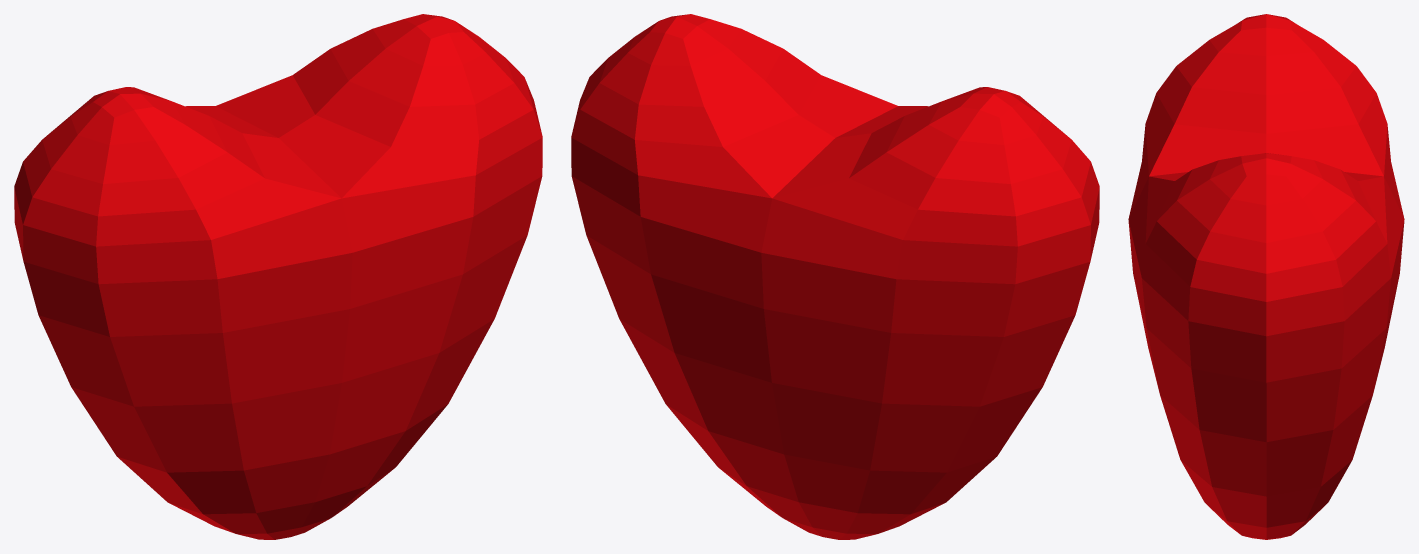
The model's file is Heart3D.fbx.
3 renders of one model, left to right at view 1: azimuth 30°, elevation 25°; view 2: azimuth 150°, elevation 25°; view 3: azimuth 270°, elevation 25°, orthographic. The views are drawn at different scales.
Parts seen in each view (by area): view 1: Plane; view 2: Plane; view 3: Plane.
Part boxes in pixels (left/top/right/bottom): Plane: left=14, top=14, right=542, bottom=539; Plane: left=571, top=14, right=1099, bottom=539; Plane: left=1128, top=14, right=1404, bottom=539.
Size of the model in its own units: 156 by 140 by 78.32.
